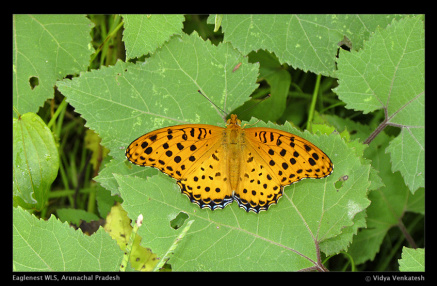Argyreus hyperbius: (117, 84, 335, 213)
butterfly: (119, 86, 337, 215)
